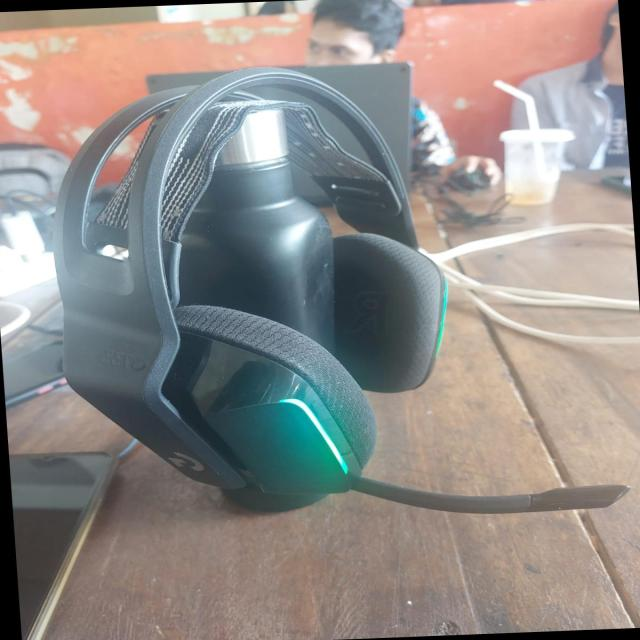earphone: (45, 60, 488, 550)
